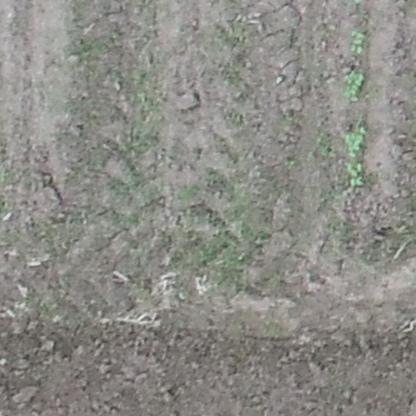vc: (343, 127, 369, 157), (345, 70, 366, 101), (347, 159, 368, 188), (347, 30, 369, 54)
